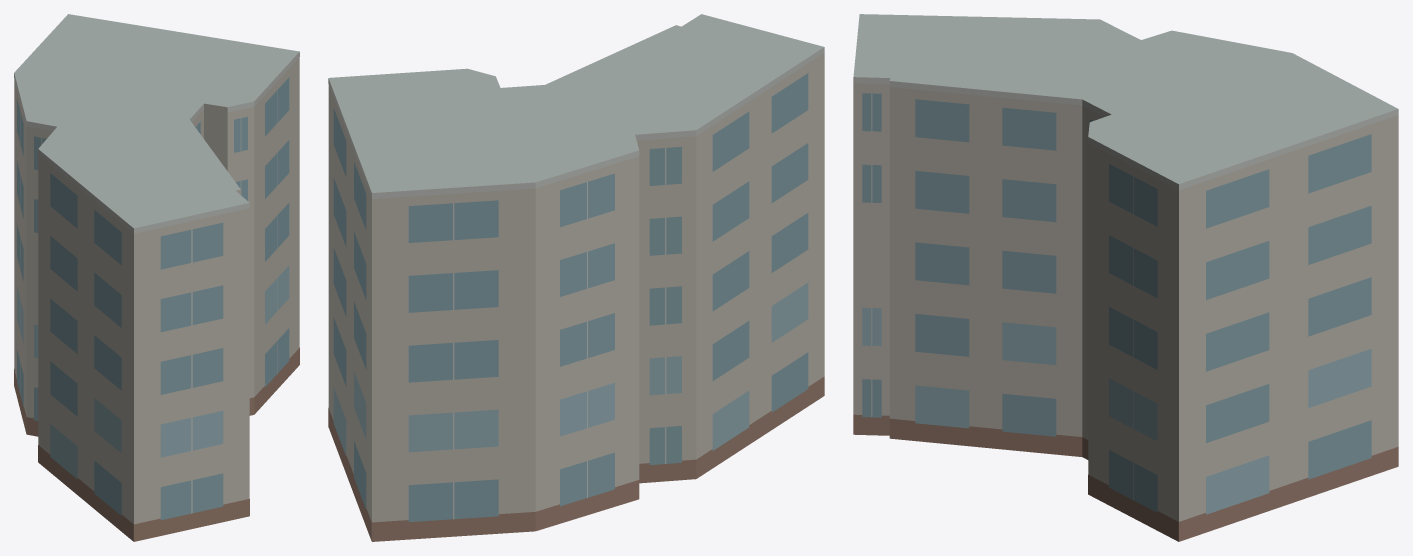
Rendered from survey-upis-33040205.glb.
3 renders of one model, left to right at view 1: azimuth 30°, elevation 25°; view 2: azimuth 150°, elevation 25°; view 3: azimuth 270°, elevation 25°, orthographic. The views are drawn at different scales.
Parts seen in each view (by area): view 1: survey-upis-33040205.tmp; view 2: survey-upis-33040205.tmp; view 3: survey-upis-33040205.tmp.
Part boxes in pixels (x1=…): survey-upis-33040205.tmp: x1=14, y1=14, x2=299, y2=541; survey-upis-33040205.tmp: x1=328, y1=14, x2=824, y2=541; survey-upis-33040205.tmp: x1=853, y1=14, x2=1398, y2=541.
Bounding box in the file's own units: 14.71 × 14.4 × 19.9.
